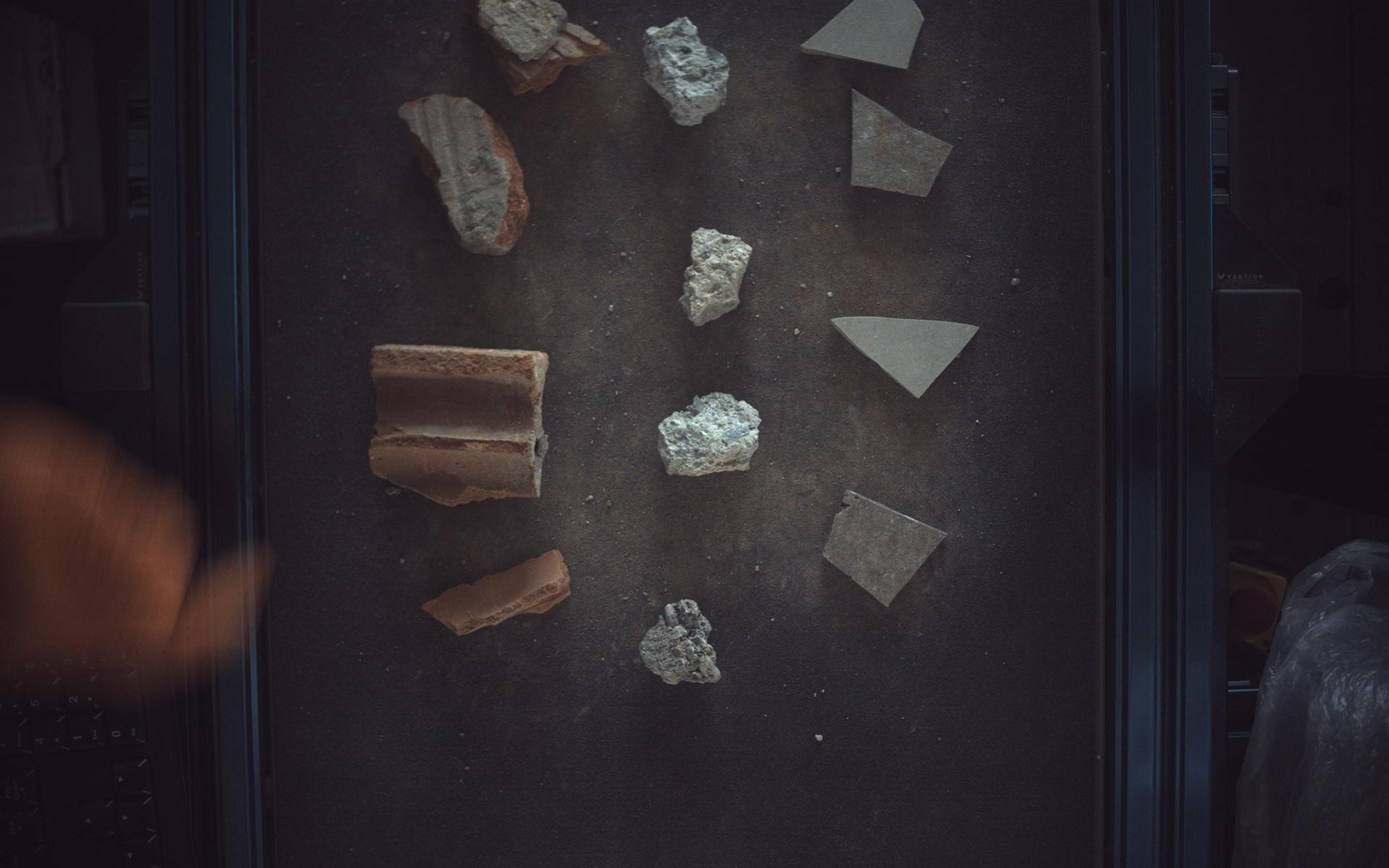brick: (368, 345, 549, 506), (399, 93, 530, 255), (423, 550, 571, 637), (475, 1, 611, 94)
concrete: (644, 15, 730, 125), (659, 392, 763, 477), (680, 227, 754, 326), (640, 600, 722, 686)
tile: (825, 490, 949, 607), (833, 316, 981, 398), (853, 88, 954, 196), (802, 1, 926, 68)
